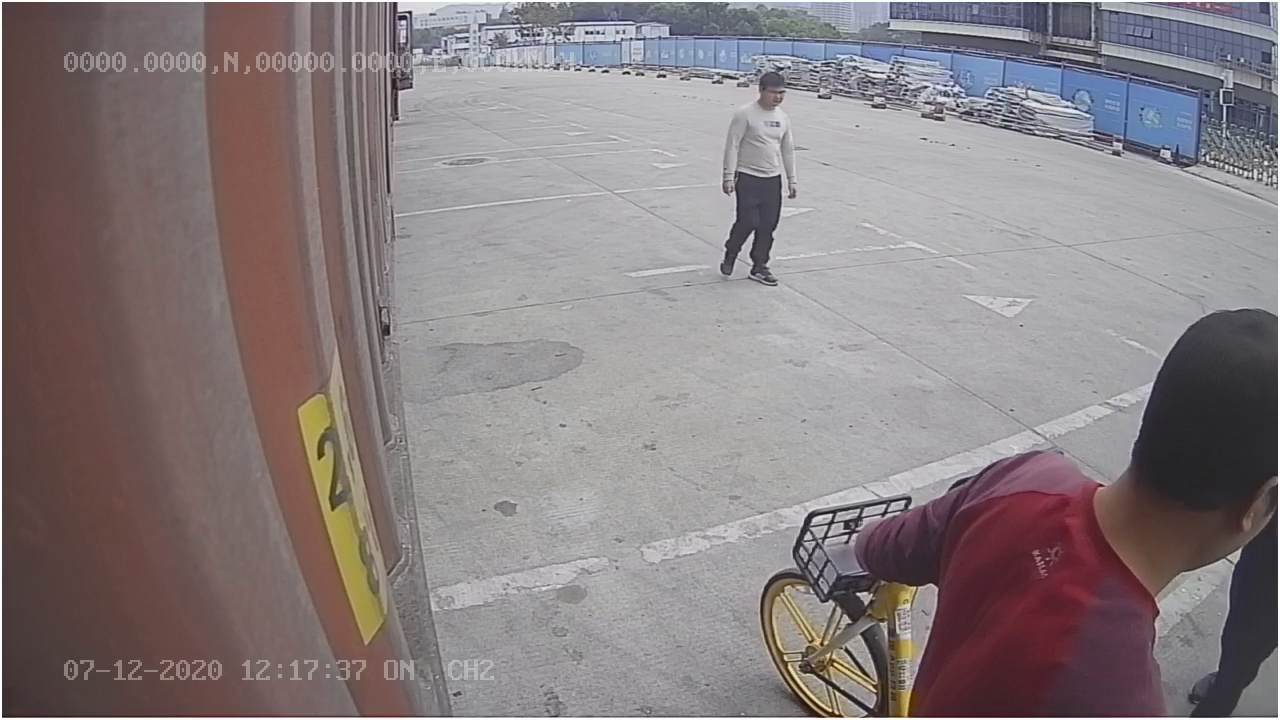person: (714, 66, 805, 291)
